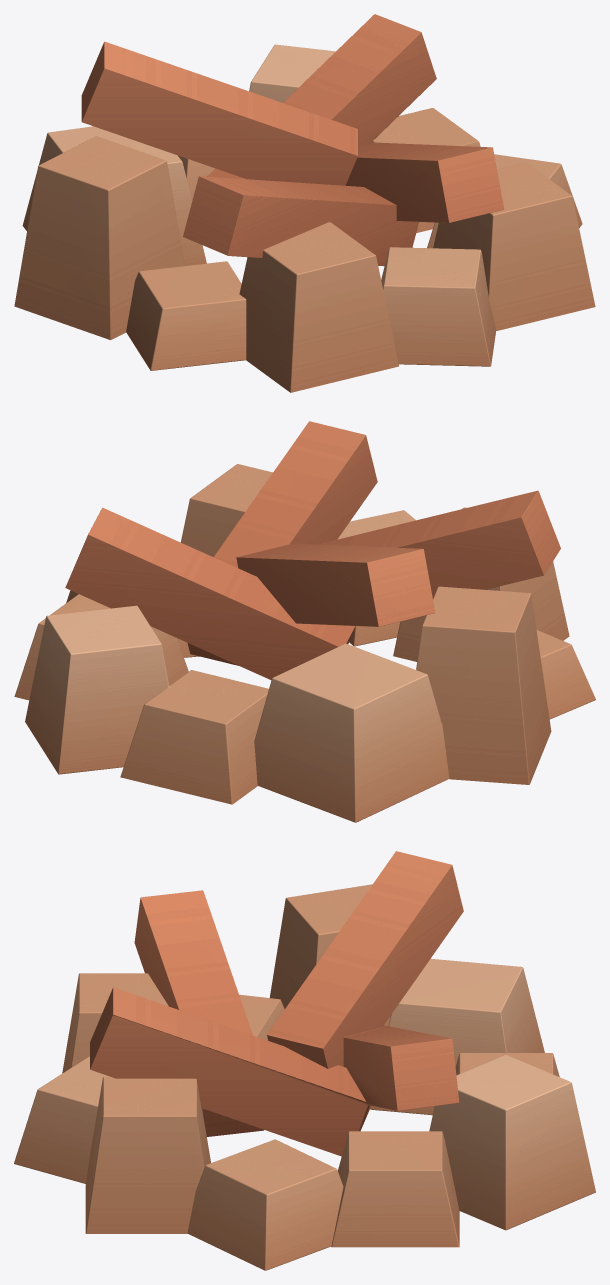
File: campfire-pit.glb
The picture shows the model from 3 angles, top to bottom: view 1: azimuth 30°, elevation 25°; view 2: azimuth 150°, elevation 25°; view 3: azimuth 270°, elevation 25°; orthographic projection. The views are drawn at different scales.
Parts seen in each view (by area): view 1: campfire-pit, wood; view 2: campfire-pit, wood; view 3: campfire-pit, wood.
Boxes of the visible parts, <box> form: campfire-pit: <box>14,44,595,392</box>; wood: <box>81,14,504,266</box>; campfire-pit: <box>14,464,595,822</box>; wood: <box>65,421,560,680</box>; campfire-pit: <box>14,884,595,1270</box>; wood: <box>90,851,463,1156</box>.
Bounding box in the file's own units: 0.2774 × 0.109 × 0.2686.
2 materials, 2 textured.
